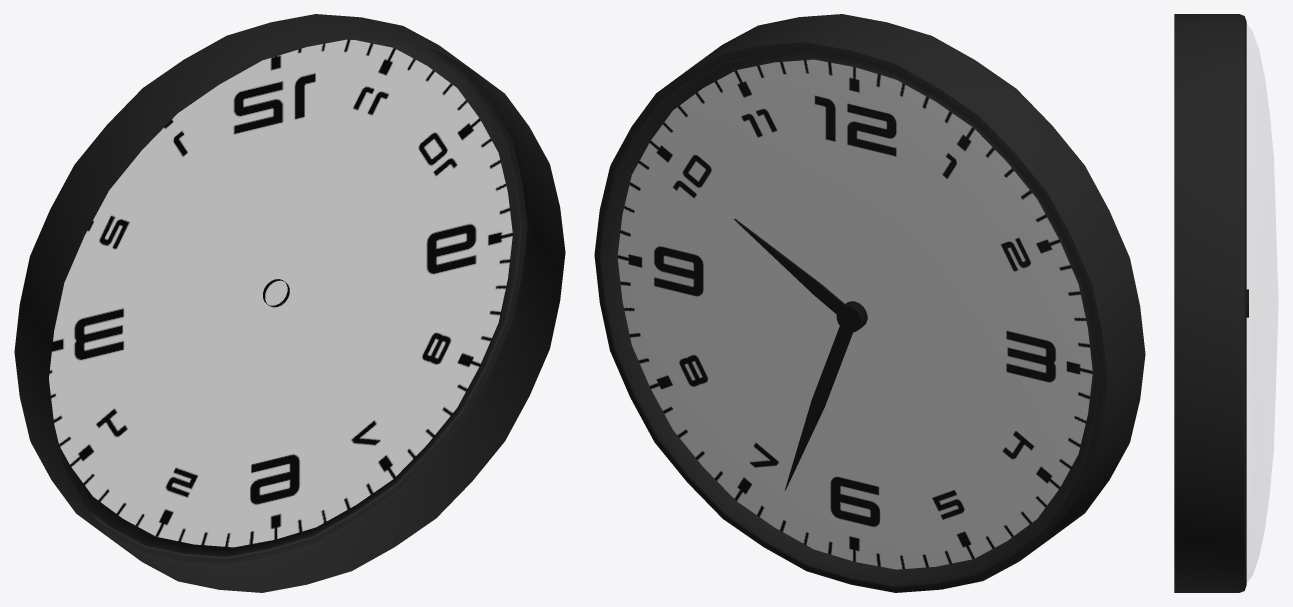
Rendered from Clock.FBX.
The picture shows the model from 3 angles, left to right: view 1: azimuth 30°, elevation 25°; view 2: azimuth 150°, elevation 25°; view 3: azimuth 270°, elevation 25°; orthographic projection. The views are drawn at different scales.
Visible parts, largest first — view 1: Body; view 2: Body, Box001, Box002, Hands; view 3: Body, Glass.
Part boxes in pixels (box(x1,y1,x2,y2)): Body: box(14, 14, 565, 592); Body: box(594, 14, 1145, 592); Box001: box(785, 326, 852, 490); Box002: box(734, 218, 845, 313); Hands: box(836, 301, 867, 332); Body: box(1174, 14, 1246, 592); Glass: box(1247, 25, 1277, 581).
Bounding box in the file's own units: 40.22 × 7.21 × 40.
Materials: 4 (1 with a texture image).
